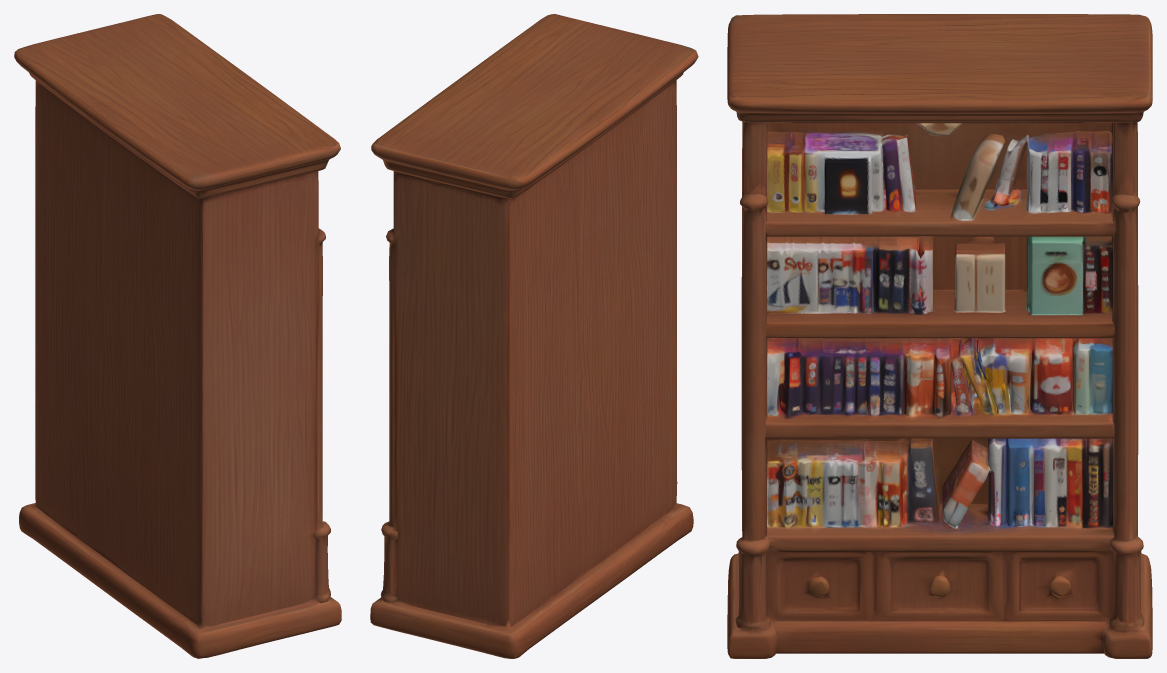
Rendered from au_perm_mangaverse_bookshelf.glb.
The picture shows the model from 3 angles, left to right: view 1: azimuth 30°, elevation 25°; view 2: azimuth 150°, elevation 25°; view 3: azimuth 270°, elevation 25°; orthographic projection. The views are drawn at different scales.
Parts seen in each view (by area): view 1: tripo_node_9fdc1a6d-a52d-48eb-af69-5c5b9b26747c; view 2: tripo_node_9fdc1a6d-a52d-48eb-af69-5c5b9b26747c; view 3: tripo_node_9fdc1a6d-a52d-48eb-af69-5c5b9b26747c.
Boxes of the visible parts, bbox=[...] form: tripo_node_9fdc1a6d-a52d-48eb-af69-5c5b9b26747c: bbox=[14, 14, 341, 658]; tripo_node_9fdc1a6d-a52d-48eb-af69-5c5b9b26747c: bbox=[370, 14, 698, 658]; tripo_node_9fdc1a6d-a52d-48eb-af69-5c5b9b26747c: bbox=[727, 14, 1152, 658].
Bounding box in the file's own units: 0.5113 × 1.5 × 1.02.
Materials: 1 (1 with a texture image).
